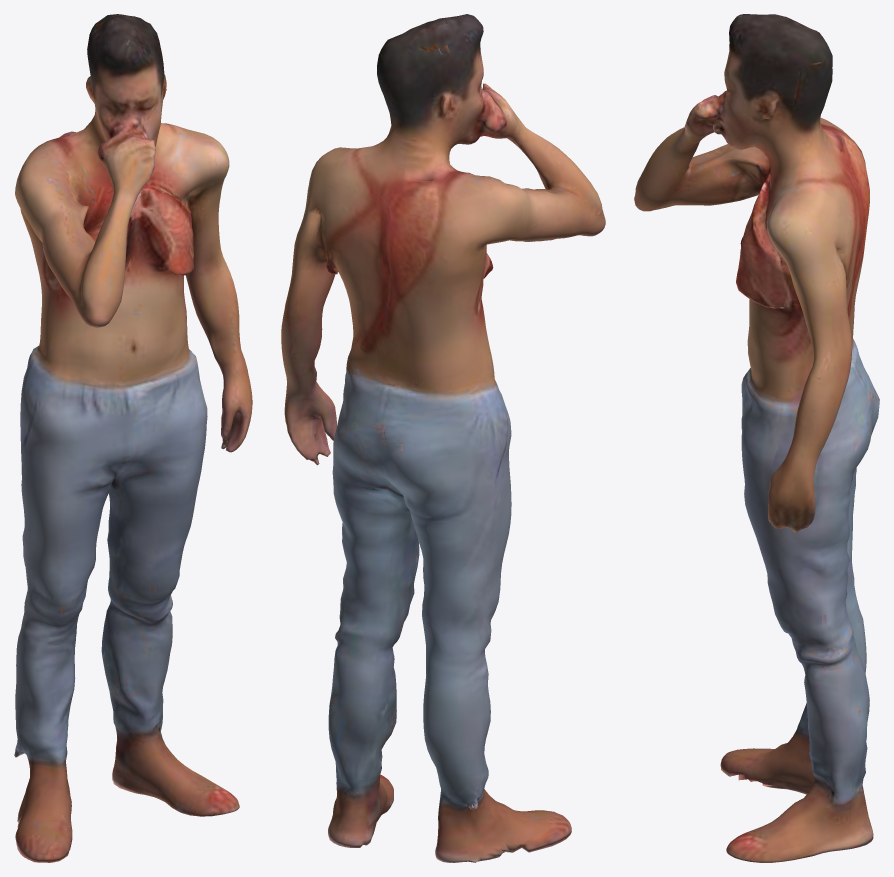
The model's file is sintomas.glb.
3 views of the same model, side by side, from view 1: azimuth 30°, elevation 25°; view 2: azimuth 150°, elevation 25°; view 3: azimuth 270°, elevation 25° (orthographic).
Visible parts, largest first — view 1: Symptom; view 2: Symptom; view 3: Symptom.
Part boxes in pixels (x1,y1,x2,y2): Symptom: (14, 14, 252, 862); Symptom: (281, 14, 605, 862); Symptom: (634, 14, 879, 862).
Size of the model in its own units: 0.3334 by 1.02 by 0.2846.
Materials: 1 (1 with a texture image).
